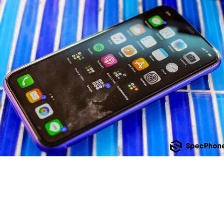phone: (2, 0, 224, 154)
